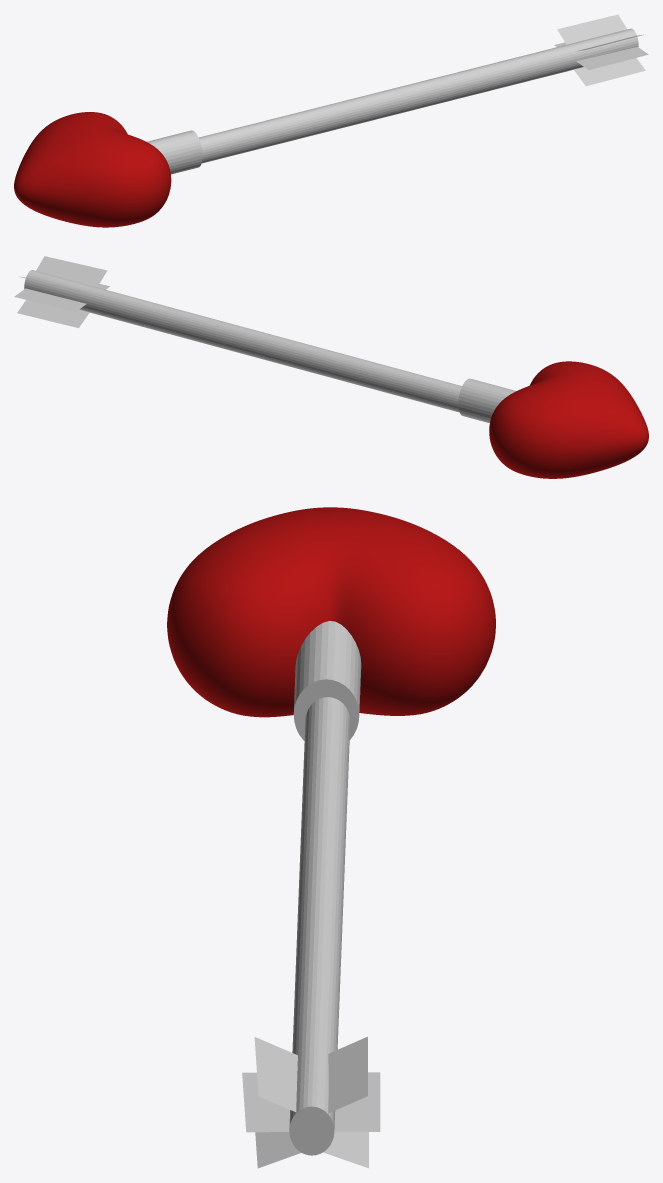
3 renders of one model, top to bottom at view 1: azimuth 30°, elevation 25°; view 2: azimuth 150°, elevation 25°; view 3: azimuth 270°, elevation 25°, orthographic. The views are drawn at different scales.
Visible parts, largest first — view 1: 12190_Heart_v1_L3.002, Cylinder.001, Cylinder.002, Plane.001, Plane.003, Plane.005; view 2: 12190_Heart_v1_L3.002, Cylinder.001, Cylinder.002, Plane.004, Plane.002, Plane; view 3: 12190_Heart_v1_L3.002, Cylinder.001, Cylinder.002, Plane.001, Plane.004, Plane.005, Plane, Plane.002, Plane.003.
Boxes of the visible parts, x1,y1,x2,y2 form: 12190_Heart_v1_L3.002: (14, 112, 171, 227); Cylinder.001: (199, 28, 638, 163); Cylinder.002: (146, 130, 202, 174); Plane.001: (557, 14, 627, 44); Plane.003: (573, 58, 645, 86); Plane.005: (576, 47, 648, 69); 12190_Heart_v1_L3.002: (489, 361, 648, 478); Cylinder.001: (24, 270, 461, 412); Cylinder.002: (458, 378, 516, 423); Plane.004: (36, 256, 107, 287); Plane.002: (17, 300, 89, 328); Plane: (14, 288, 86, 311); 12190_Heart_v1_L3.002: (167, 507, 495, 717); Cylinder.001: (289, 697, 350, 1155); Cylinder.002: (293, 621, 361, 740); Plane.001: (328, 1036, 367, 1113); Plane.004: (254, 1037, 297, 1111); Plane.005: (242, 1072, 289, 1132); Plane: (334, 1072, 380, 1131); Plane.002: (323, 1132, 368, 1168); Plane.003: (255, 1132, 301, 1168).
Bounding box in the file's own units: 1.86 × 0.2516 × 0.4326.
